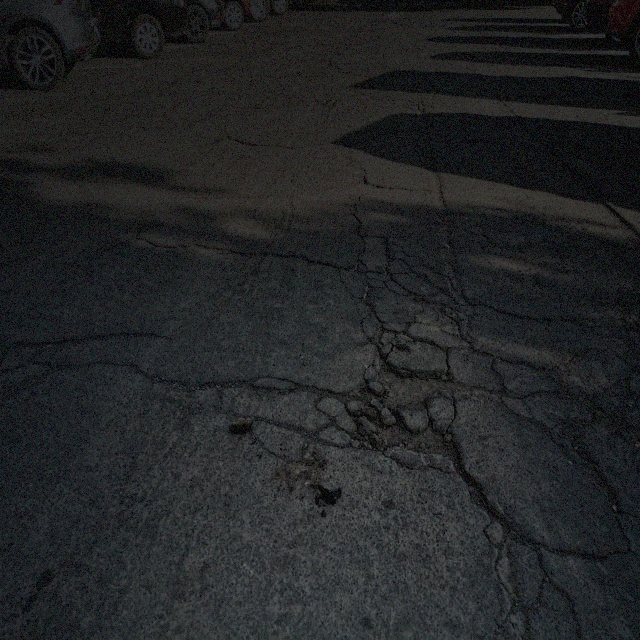pothole: (352, 344, 466, 481)
